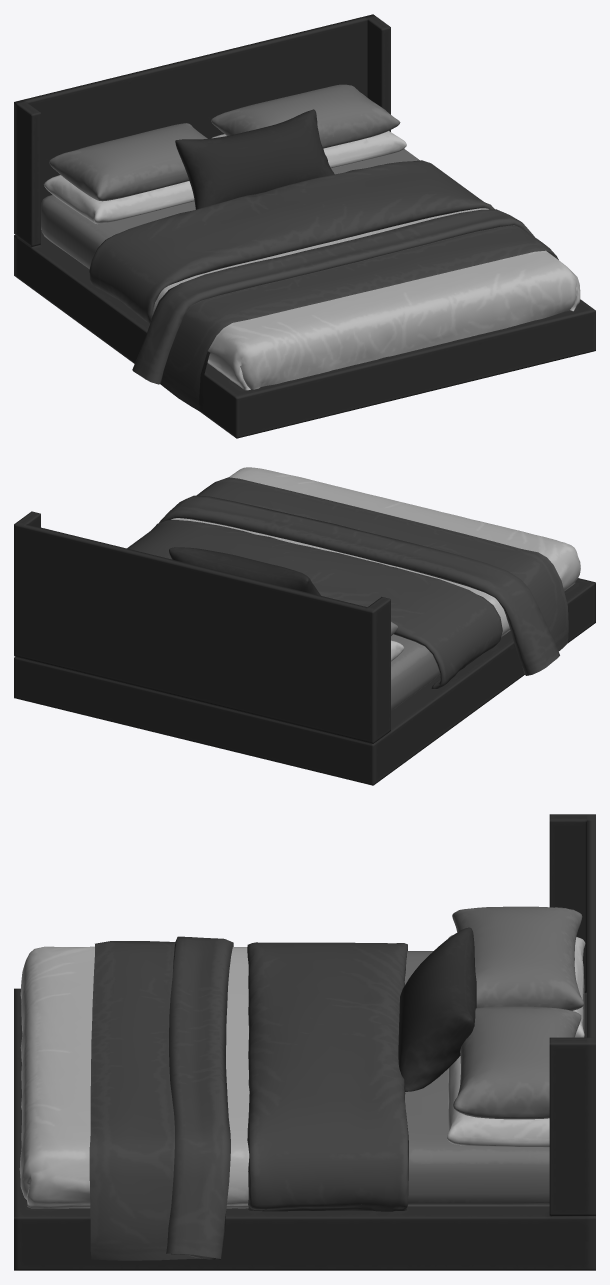
Rendered from dark_modern_bed.gltf.
The picture shows the model from 3 angles, top to bottom: view 1: azimuth 30°, elevation 25°; view 2: azimuth 150°, elevation 25°; view 3: azimuth 270°, elevation 25°; orthographic projection. The views are drawn at different scales.
Visible parts, largest first — view 1: Bed_LP_Default_0; view 2: Bed_LP_Default_0; view 3: Bed_LP_Default_0.
Boxes of the visible parts, <box> form: Bed_LP_Default_0: <box>14,14,595,438</box>; Bed_LP_Default_0: <box>14,467,595,785</box>; Bed_LP_Default_0: <box>14,814,595,1270</box>.
Bounding box in the file's own units: 2137 × 858 × 1993.
1 material, 1 textured.
